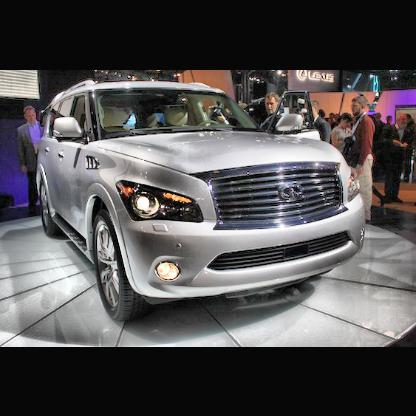Infiniti QX56 SUV 2011: (37, 80, 370, 325)
